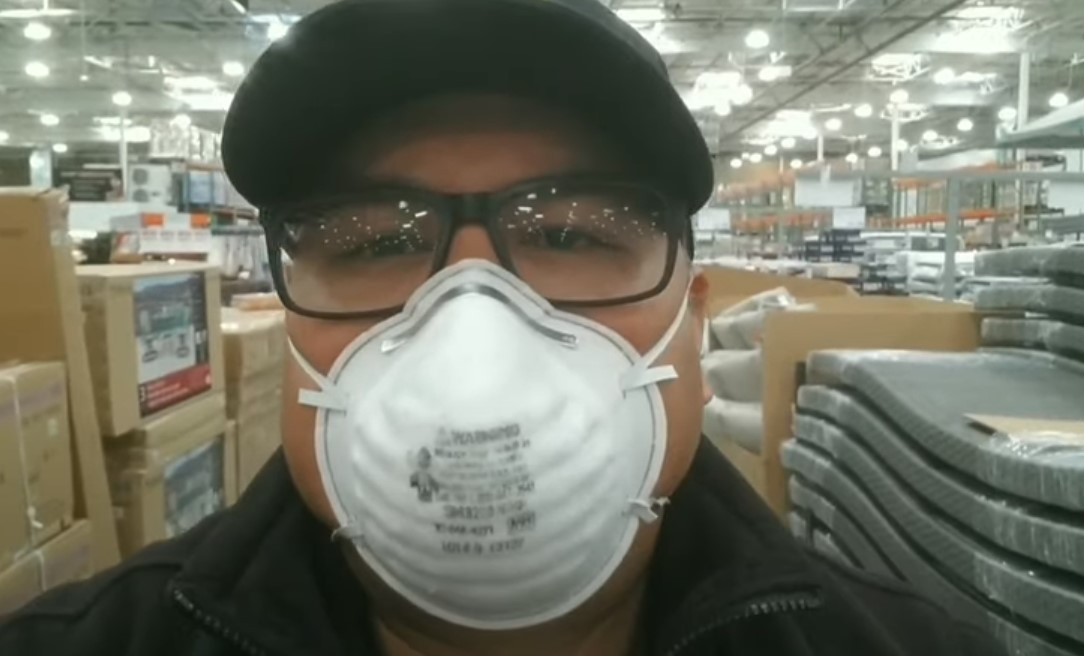face_with_mask: (222, 12, 715, 633)
